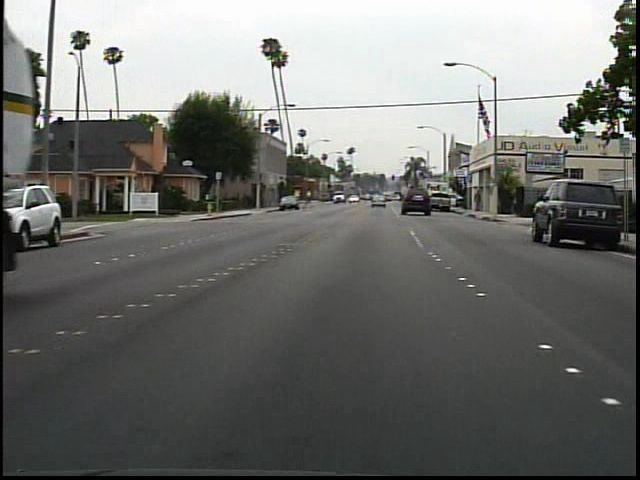person: (468, 187, 485, 216)
